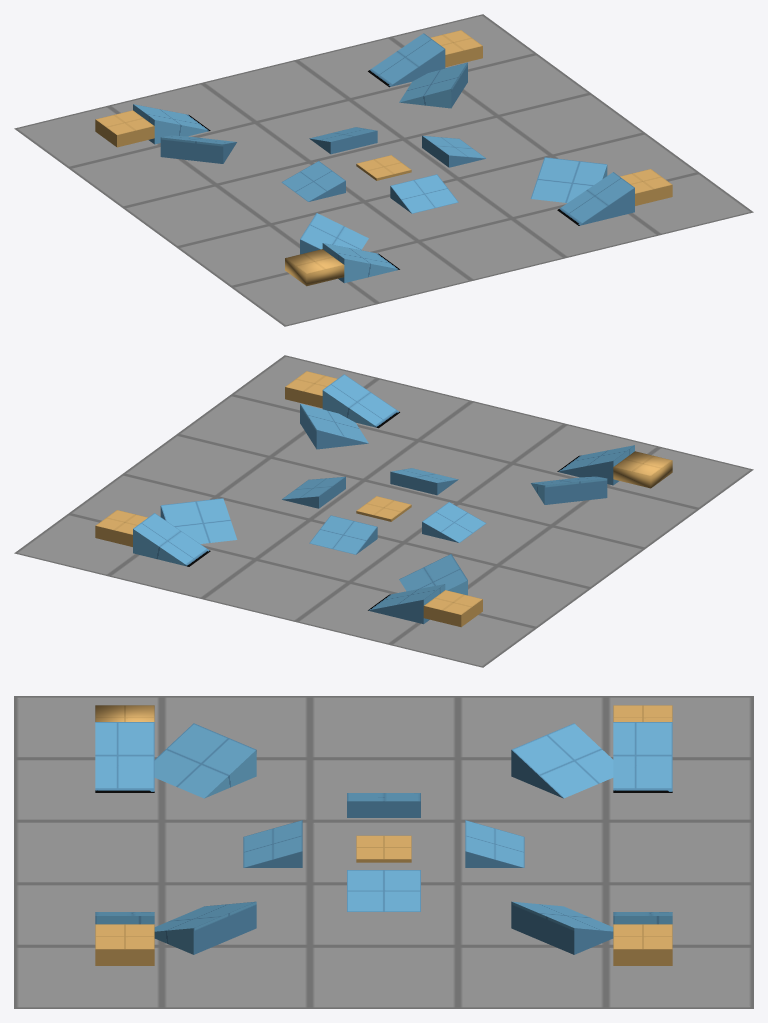
The model's file is hills.gltf.
3 views of the same model, one above another, from view 1: azimuth 30°, elevation 25°; view 2: azimuth 150°, elevation 25°; view 3: azimuth 270°, elevation 25° (orthographic). The views are drawn at different scales.
Visible parts, largest first — view 1: Ground, Ramp_SE, Ramp_To_SE, Ramp_To_NE, Ramp_NE, Ramp_S, Ramp_NW, Ramp_W, Ramp_SW, Platform_NW, Platform_SW, Ramp_To_SW (+6 smaller); view 2: Ground, Ramp_NE, Ramp_To_NE, Ramp_To_SE, Ramp_SE, Ramp_N, Ramp_SW, Ramp_W, Ramp_NW, Platform_NW, Platform_SW, Ramp_To_NW (+6 smaller); view 3: Ground, Ramp_NW, Ramp_SW, Ramp_To_NW, Ramp_To_SW, Ramp_NE, Ramp_SE, Ramp_E, Platform_NE, Platform_SE, Ramp_N, Ramp_S (+6 smaller).
Boxes of the visible parts, x1,y1,x2,y2 form: Ground: [14, 14, 753, 326]; Ramp_SE: [530, 157, 607, 202]; Ramp_To_SE: [557, 172, 634, 225]; Ramp_To_NE: [368, 33, 445, 87]; Ramp_NE: [399, 62, 467, 108]; Ramp_S: [390, 174, 458, 213]; Ramp_NW: [160, 135, 236, 163]; Ramp_W: [281, 161, 345, 201]; Ramp_SW: [300, 213, 368, 254]; Platform_NW: [95, 110, 154, 147]; Platform_SW: [285, 249, 344, 286]; Ramp_To_SW: [322, 243, 399, 283]; Ground: [14, 355, 753, 667]; Ramp_NE: [160, 498, 237, 543]; Ramp_To_NE: [133, 513, 210, 566]; Ramp_To_SE: [322, 374, 399, 428]; Ramp_SE: [300, 403, 368, 449]; Ramp_N: [309, 515, 377, 554]; Ramp_SW: [531, 476, 607, 504]; Ramp_W: [422, 502, 486, 542]; Ramp_NW: [399, 554, 467, 595]; Platform_NW: [423, 590, 482, 627]; Platform_SW: [613, 451, 672, 488]; Ramp_To_NW: [368, 584, 445, 624]; Ground: [14, 696, 753, 1008]; Ramp_NW: [511, 723, 613, 798]; Ramp_SW: [154, 723, 256, 798]; Ramp_To_NW: [613, 722, 672, 792]; Ramp_To_SW: [95, 722, 154, 792]; Ramp_NE: [511, 901, 613, 954]; Ramp_SE: [154, 901, 256, 954]; Ramp_E: [347, 870, 420, 911]; Platform_NE: [613, 924, 672, 965]; Platform_SE: [95, 924, 154, 965]; Ramp_N: [465, 820, 524, 867]; Ramp_S: [243, 820, 302, 867].
Size of what is drawn, in the model's own units: 100 by 5 by 100.
Materials: 3 (3 with a texture image).
